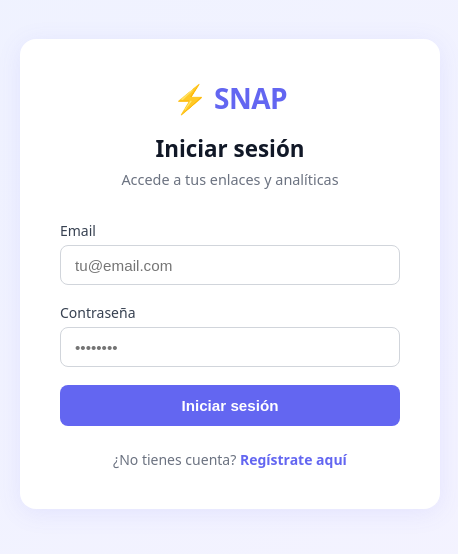
Test: LoginPage › muestra errores de validación si se envía vacío
This screenshot has width=458, height=554.
Click the button "Iniciar sesión": [230, 405] box [60,385,400,426]
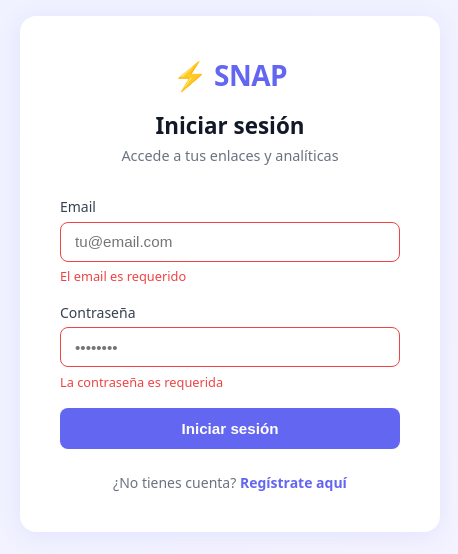
Result: the text "El email es requerido" is shown at [60,267,186,285]
Result: the text "La contraseña es requerida" is shown at [60,373,223,391]
